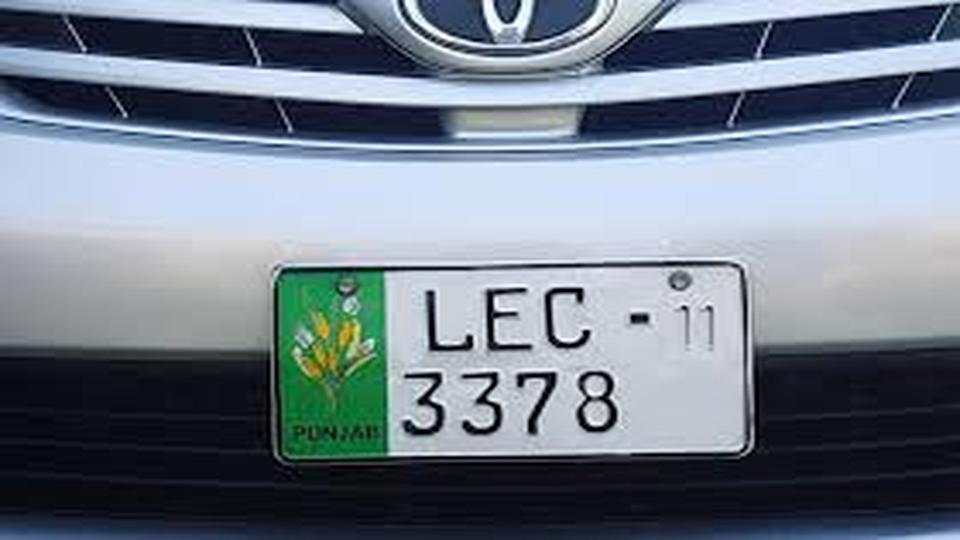NumberPlate: (258, 258, 765, 462)
